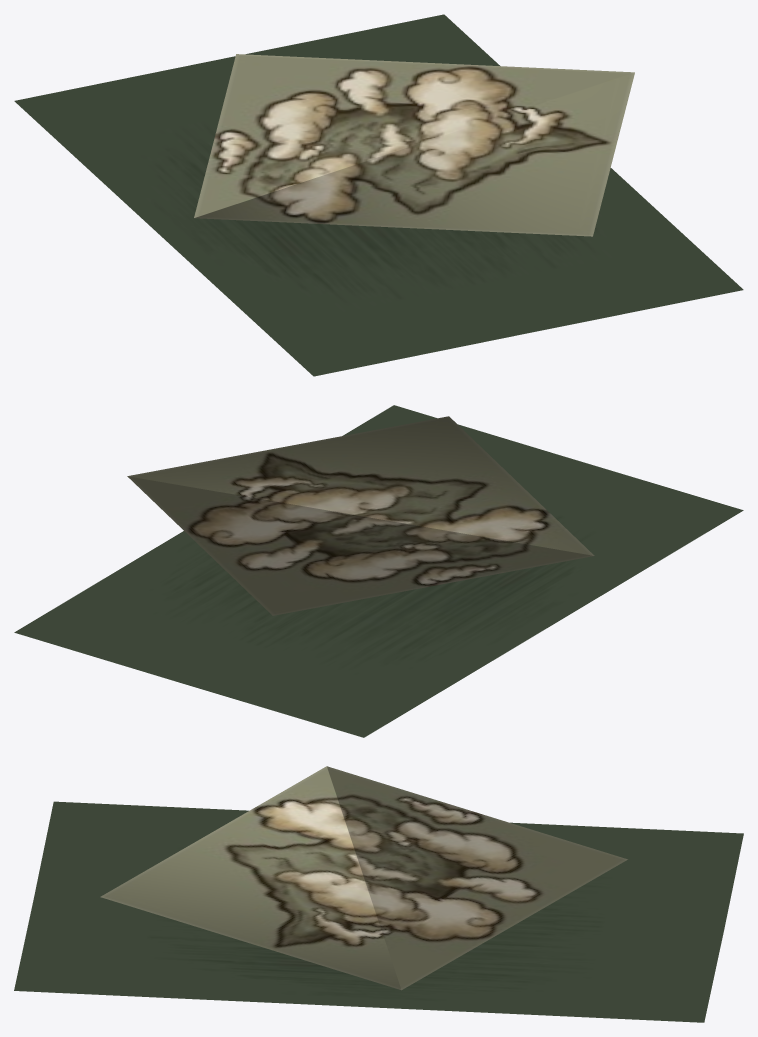
Rendered from pir_m_are_isl_mysterious_08_worldmap.fbx.
3 renders of one model, top to bottom at view 1: azimuth 30°, elevation 25°; view 2: azimuth 150°, elevation 25°; view 3: azimuth 270°, elevation 25°, orthographic. The views are drawn at different scales.
Visible parts, largest first — view 1: sketchmark, top_mesh; view 2: sketchmark, top_mesh; view 3: sketchmark, top_mesh.
Boxes of the visible parts, x1,y1,x2,y2 form: sketchmark: (14,14,743,376); top_mesh: (194,54,634,236); sketchmark: (14,405,743,737); top_mesh: (127,416,594,615); sketchmark: (14,801,743,1022); top_mesh: (100,766,627,990).
Size of the model in its own units: 46.25 by 4.54 by 60.74.
1 material, 1 textured.
